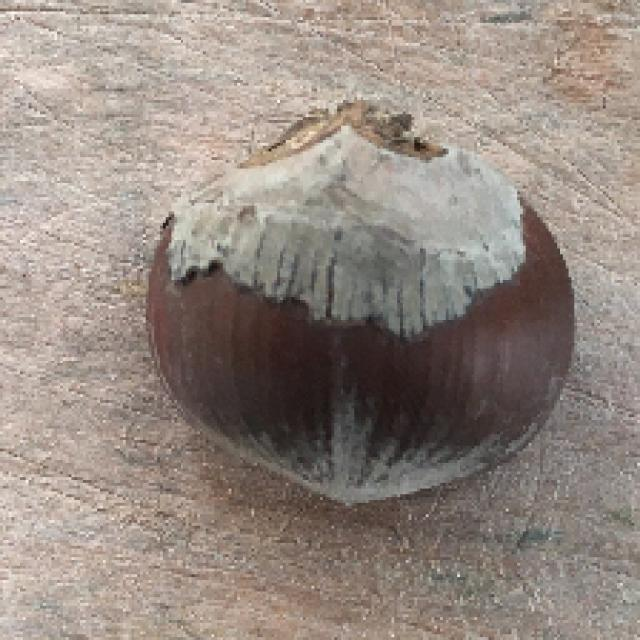damagedHazelnut: (139, 106, 586, 504)
